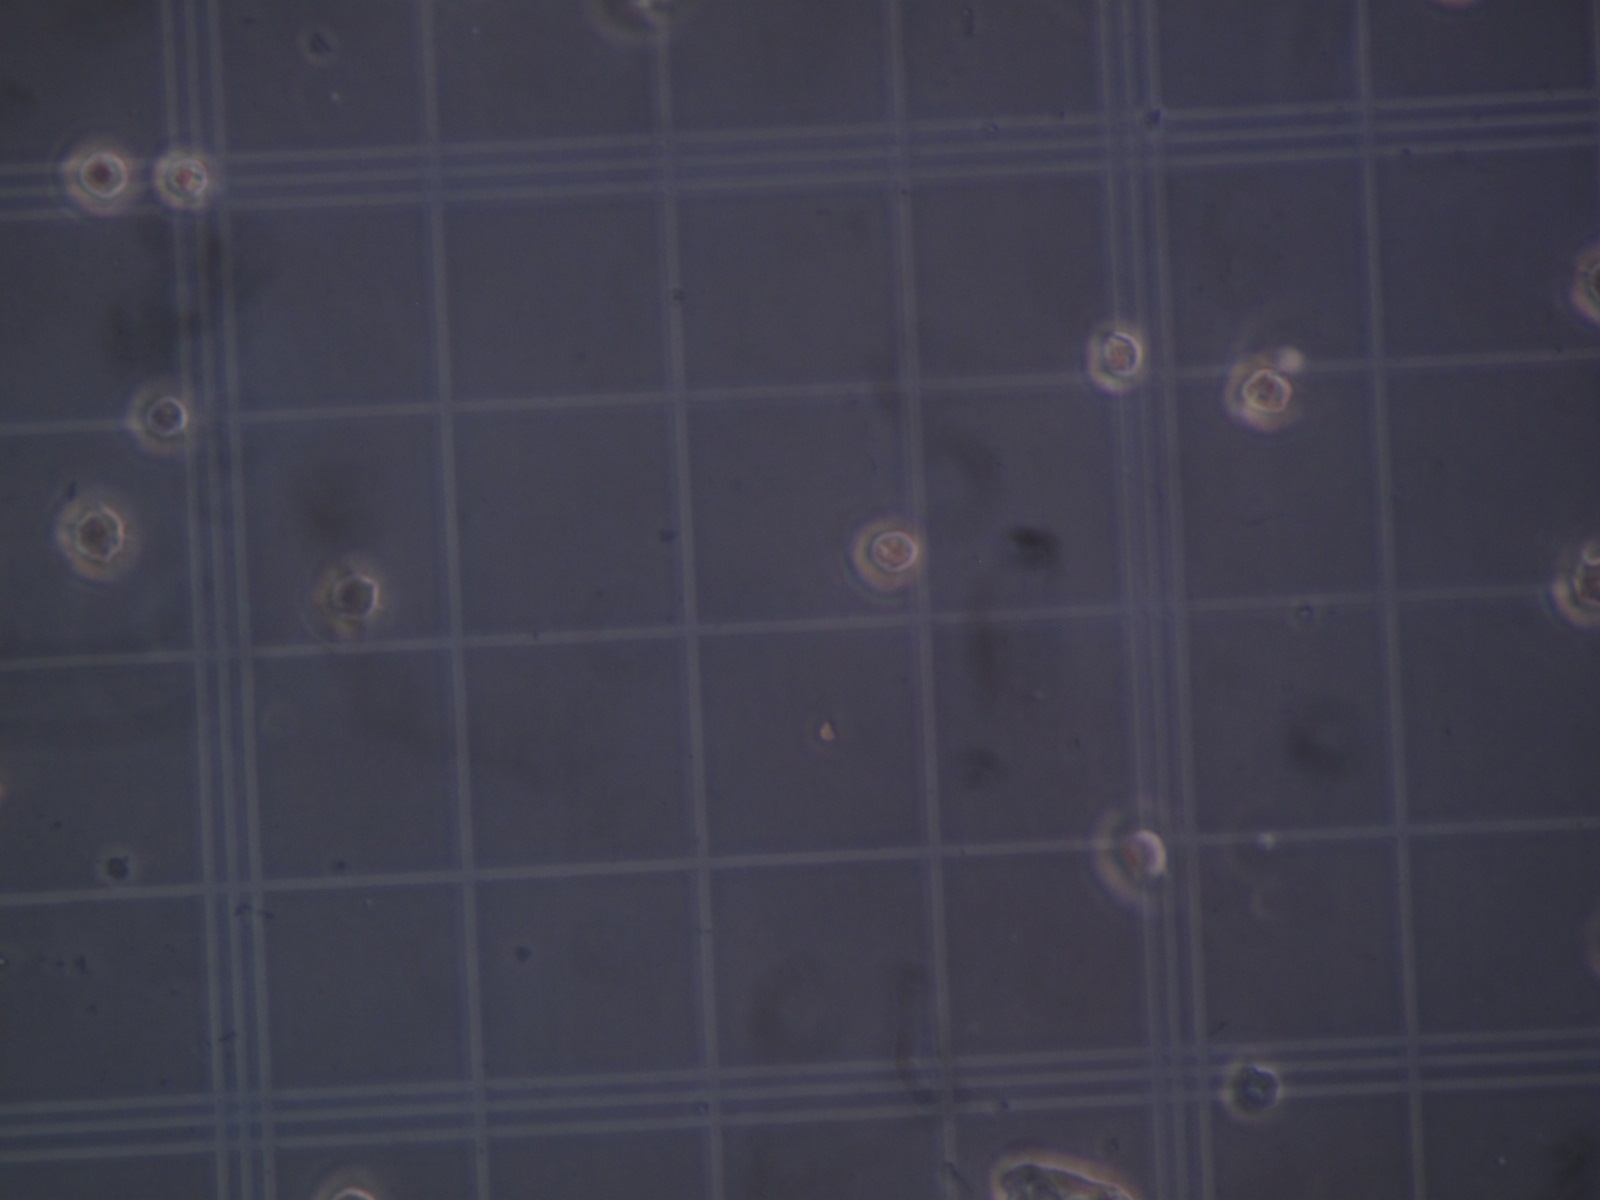hemo: (1091, 803, 1168, 906), (55, 489, 137, 582), (1222, 357, 1299, 431), (60, 141, 134, 216), (312, 562, 382, 635), (852, 519, 920, 591), (126, 382, 189, 456), (1220, 1058, 1285, 1124), (1085, 323, 1145, 395), (1551, 550, 1600, 626), (152, 150, 214, 211), (309, 1168, 387, 1200), (1570, 246, 1600, 326)
